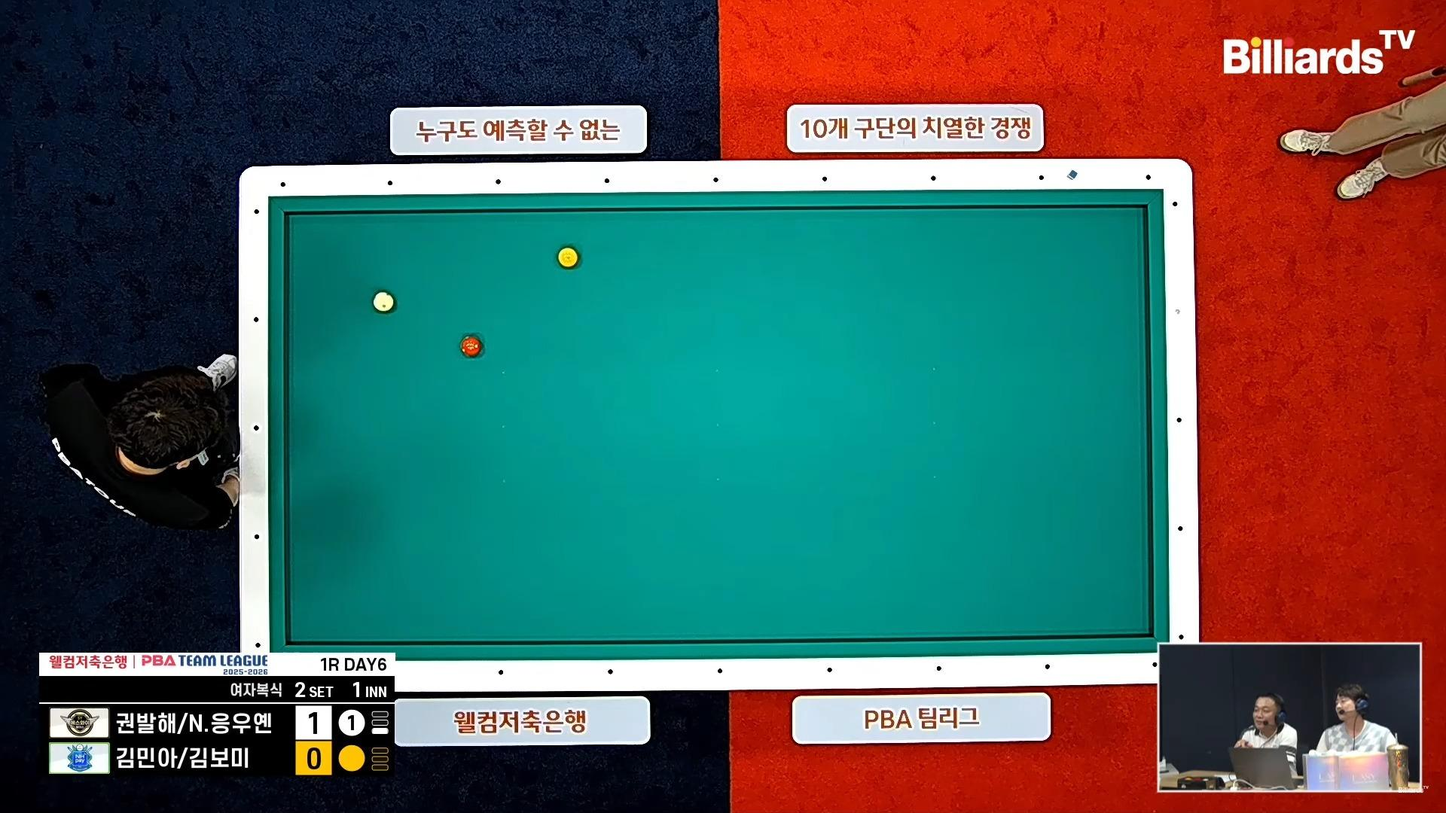billiard-ball-Red: (458, 331, 487, 359)
billiard-ball-Yellow: (557, 243, 582, 271)
billiard-ball-white: (371, 288, 398, 314)
